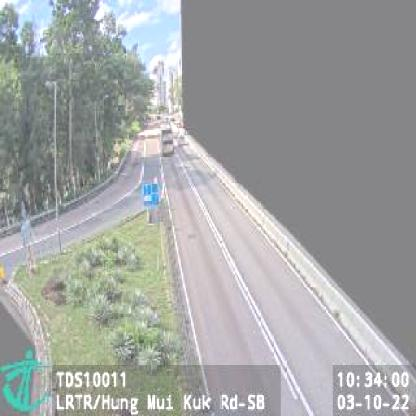Bus: (159, 122, 173, 152)
